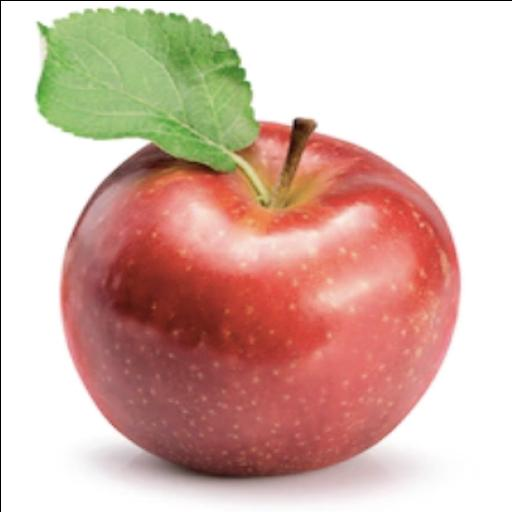apple: (61, 134, 459, 475)
